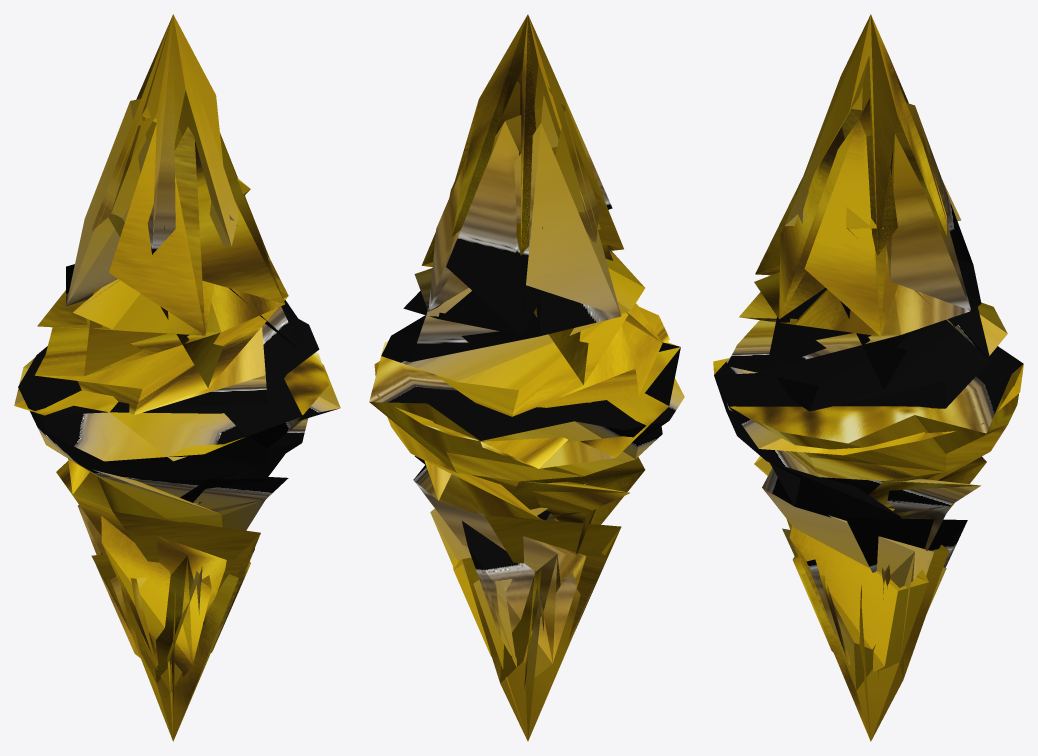
Rendered from isolation 2.glb.
3 renders of one model, left to right at view 1: azimuth 30°, elevation 25°; view 2: azimuth 150°, elevation 25°; view 3: azimuth 270°, elevation 25°, orthographic.
Parts seen in each view (by area): view 1: Cone.002; view 2: Cone.002; view 3: Cone.002.
Part boxes in pixels (<box>): Cone.002: <box>14,14,340,741</box>; Cone.002: <box>369,14,684,741</box>; Cone.002: <box>713,14,1023,741</box>.
Size of the model in its own units: 1.56 by 4 by 1.55.
Materials: 1 (1 with a texture image).
